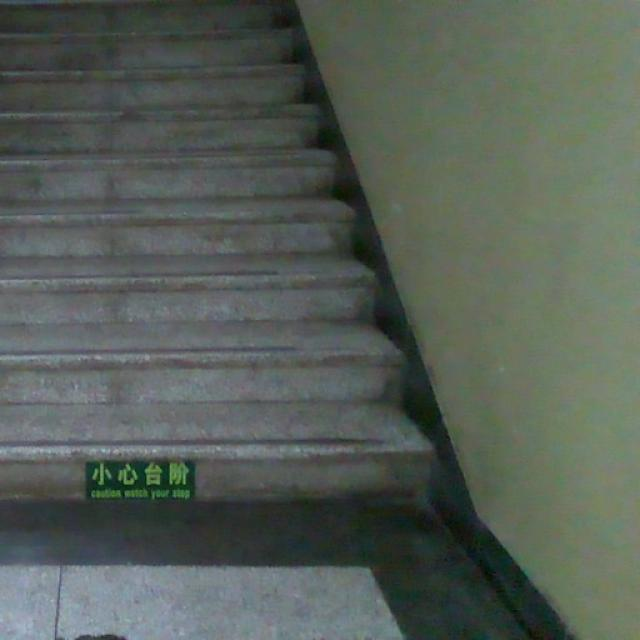Stairs: (0, 0, 438, 509)
